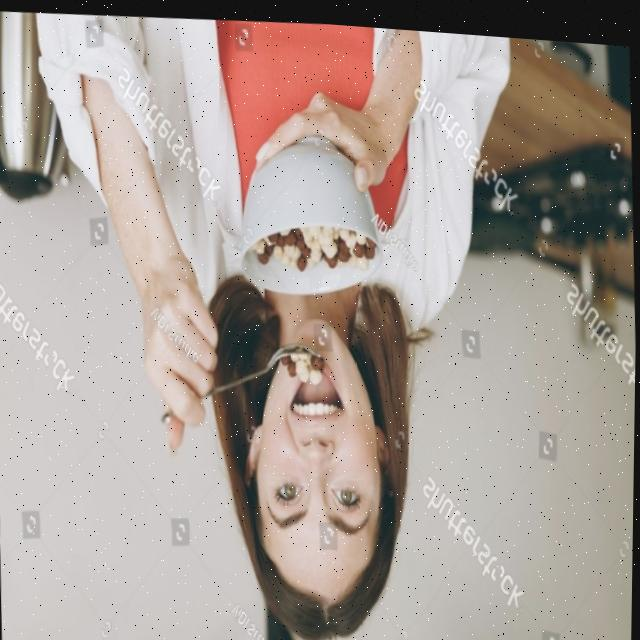eating-person: (27, 2, 531, 640)
